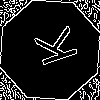K: (25, 25, 79, 71)
